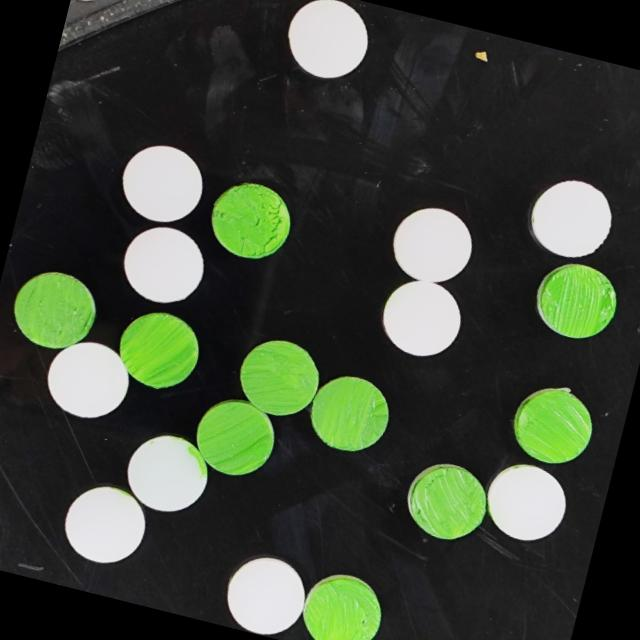disco blanco: (514, 165, 624, 268), (107, 130, 217, 232), (369, 272, 476, 370), (53, 473, 158, 572), (380, 195, 484, 294), (212, 545, 318, 640), (36, 330, 138, 428), (474, 454, 578, 550), (114, 425, 217, 521), (112, 217, 212, 313), (274, 0, 379, 89)
disco verde: (296, 363, 402, 465), (4, 260, 106, 360), (228, 331, 330, 427), (202, 170, 302, 267), (395, 454, 495, 548), (110, 304, 208, 398), (529, 255, 628, 348), (502, 378, 599, 472), (186, 392, 284, 484), (294, 565, 389, 640)
